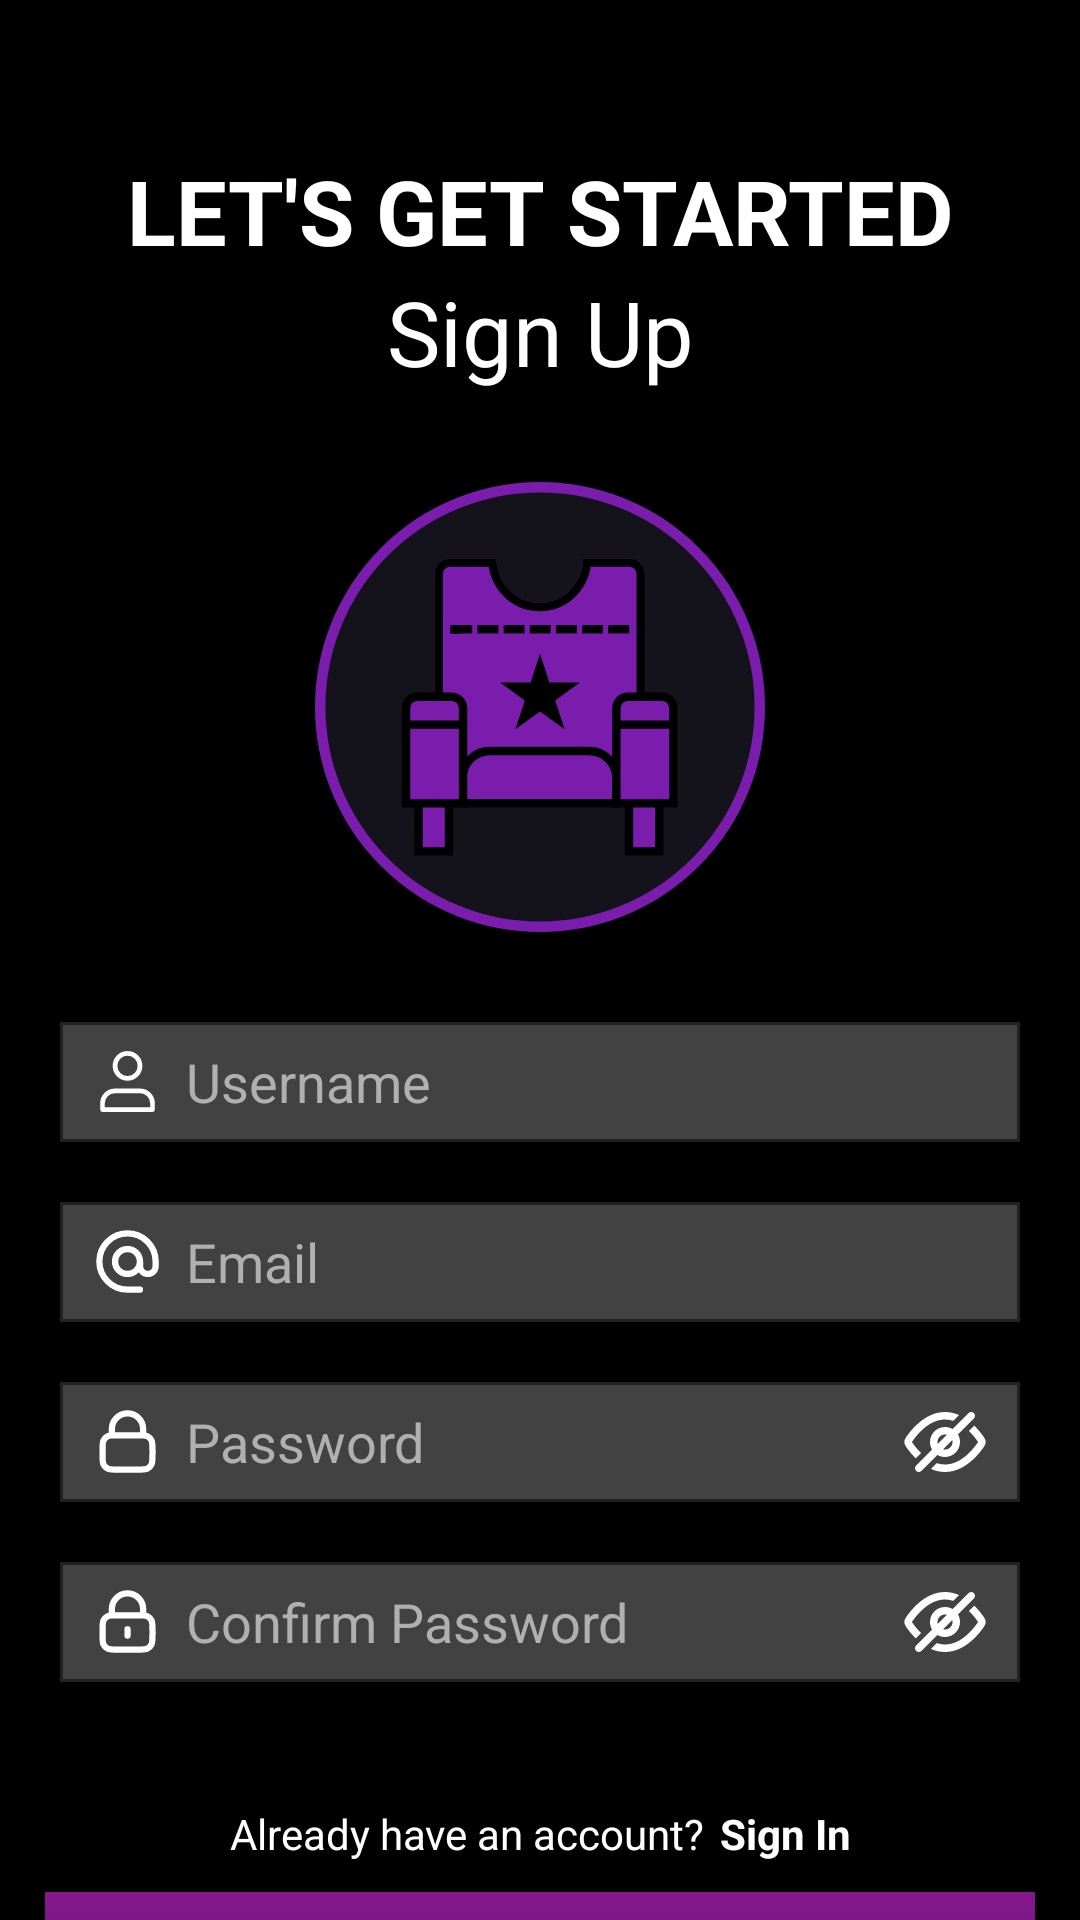

Icons on this 1080*1920 Android screen, each with the point to tap as (x,y):
closed eye: (945,1442), (945,1622)
